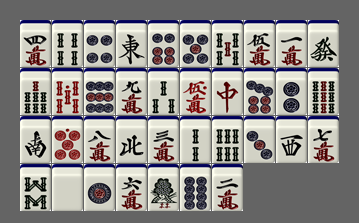0m: (180, 68, 211, 115)
0p: (52, 116, 83, 163)
0s: (52, 68, 83, 115)
1m: (276, 20, 307, 67)
1p: (84, 164, 115, 211)
1s: (148, 164, 179, 211)
1z: (116, 20, 147, 67)
2m: (212, 164, 243, 211)
2p: (276, 68, 307, 115)
2s: (180, 116, 211, 163)
2z: (20, 116, 51, 163)
3m: (148, 116, 179, 163)
3p: (244, 116, 275, 163)
3s: (148, 68, 179, 115)
3z: (276, 116, 307, 163)
4m: (20, 20, 51, 67)
4p: (84, 20, 115, 67)
4s: (52, 20, 83, 67)
4z: (116, 116, 147, 163)
5m: (244, 20, 275, 67)
5p: (180, 20, 211, 67)
5s: (212, 20, 243, 67)
5z: (52, 164, 83, 211)
6m: (116, 164, 147, 211)
6p: (148, 20, 179, 67)
6s: (212, 116, 243, 163)
6z: (308, 20, 339, 67)
7m: (308, 116, 339, 163)
7p: (244, 68, 275, 115)
7s: (20, 68, 51, 115)
7z: (212, 68, 243, 115)
8m: (84, 116, 115, 163)
8p: (180, 164, 211, 211)
8s: (20, 164, 51, 211)
9m: (116, 68, 147, 115)
9p: (84, 68, 115, 115)
9s: (308, 68, 339, 115)
